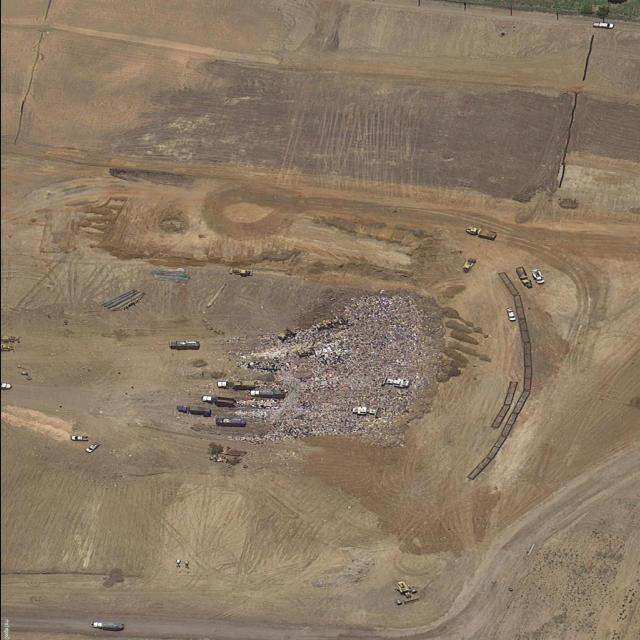dump_site: (226, 292, 439, 443), (482, 333, 490, 339)
